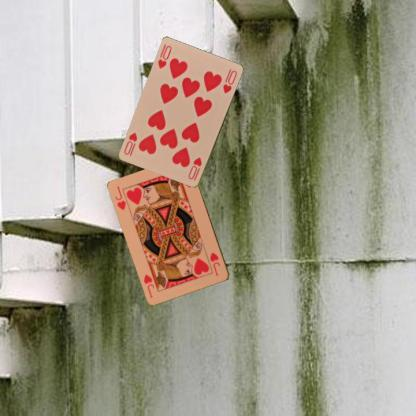10h: (185, 155, 203, 182), (156, 44, 173, 70)
Jh: (208, 249, 222, 276), (113, 184, 127, 211)
